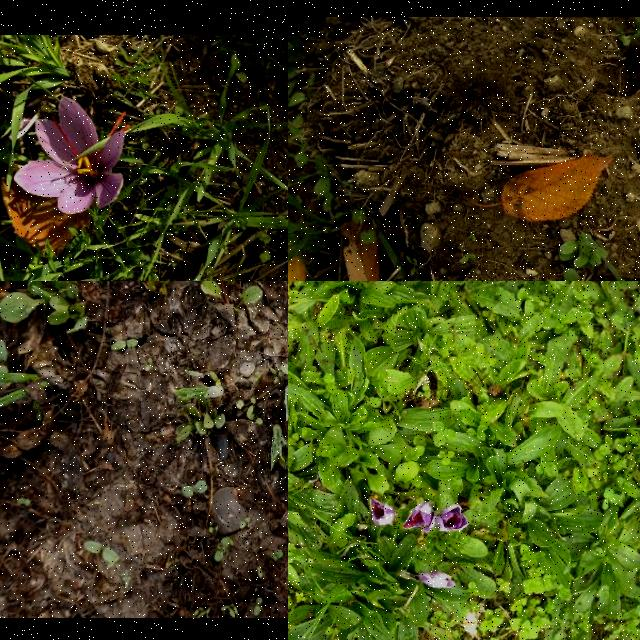flower: (14, 97, 132, 215), (436, 505, 469, 533), (404, 502, 436, 530), (370, 496, 396, 526), (414, 572, 458, 588)
